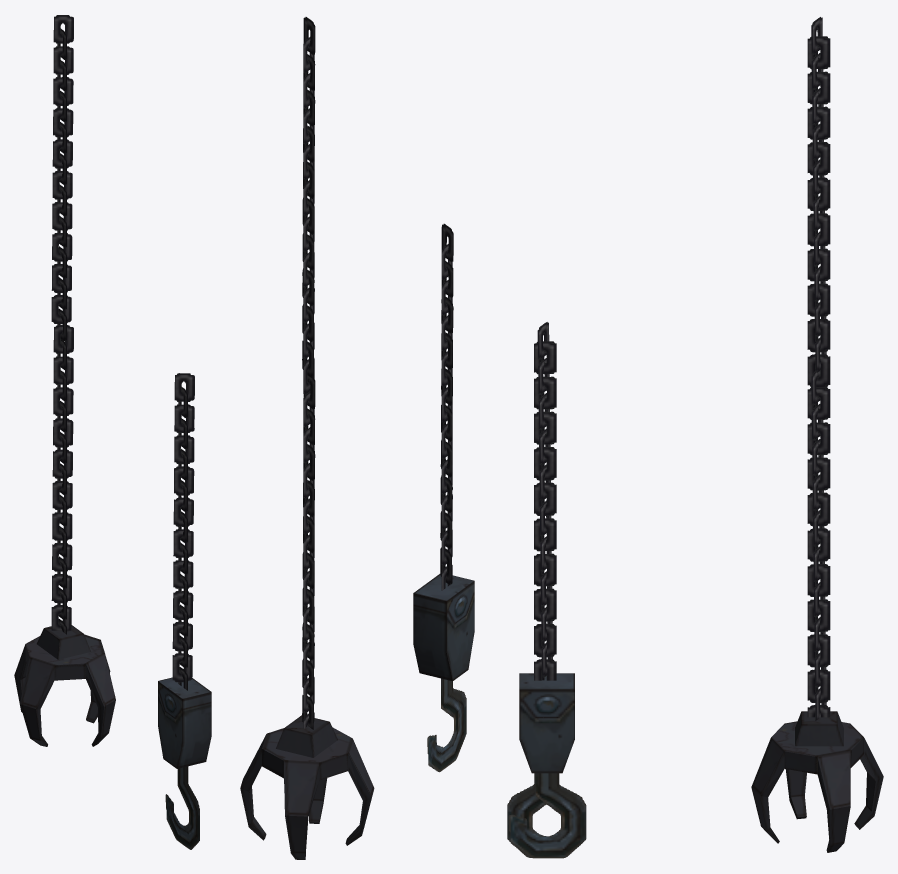
File: 2_DG_DiaoGouZhuaZi_01.FBX
3 renders of one model, left to right at view 1: azimuth 30°, elevation 25°; view 2: azimuth 150°, elevation 25°; view 3: azimuth 270°, elevation 25°, orthographic. The views are drawn at different scales.
Parts seen in each view (by area): view 1: 2_DG_DiaoZhua_01, 2_DG_DiaoGou_01, 2_DG_DiaoZhua_01_02; view 2: 2_DG_DiaoZhua_01, 2_DG_DiaoGou_01, 2_DG_DiaoZhua_01_02; view 3: 2_DG_DiaoGou_01, 2_DG_DiaoZhua_01, 2_DG_DiaoZhua_01_02.
Boxes of the visible parts, box(x1,y1,x2,y2) form: 2_DG_DiaoZhua_01: box(14, 325, 115, 746); 2_DG_DiaoGou_01: box(158, 373, 211, 849); 2_DG_DiaoZhua_01_02: box(51, 15, 73, 340); 2_DG_DiaoZhua_01: box(240, 375, 374, 859); 2_DG_DiaoGou_01: box(413, 223, 474, 772); 2_DG_DiaoZhua_01_02: box(302, 17, 315, 394); 2_DG_DiaoGou_01: box(507, 322, 586, 858); 2_DG_DiaoZhua_01: box(751, 371, 883, 852); 2_DG_DiaoZhua_01_02: box(807, 17, 830, 387).
Bounding box in the file's own units: 216 × 1514 × 621.
